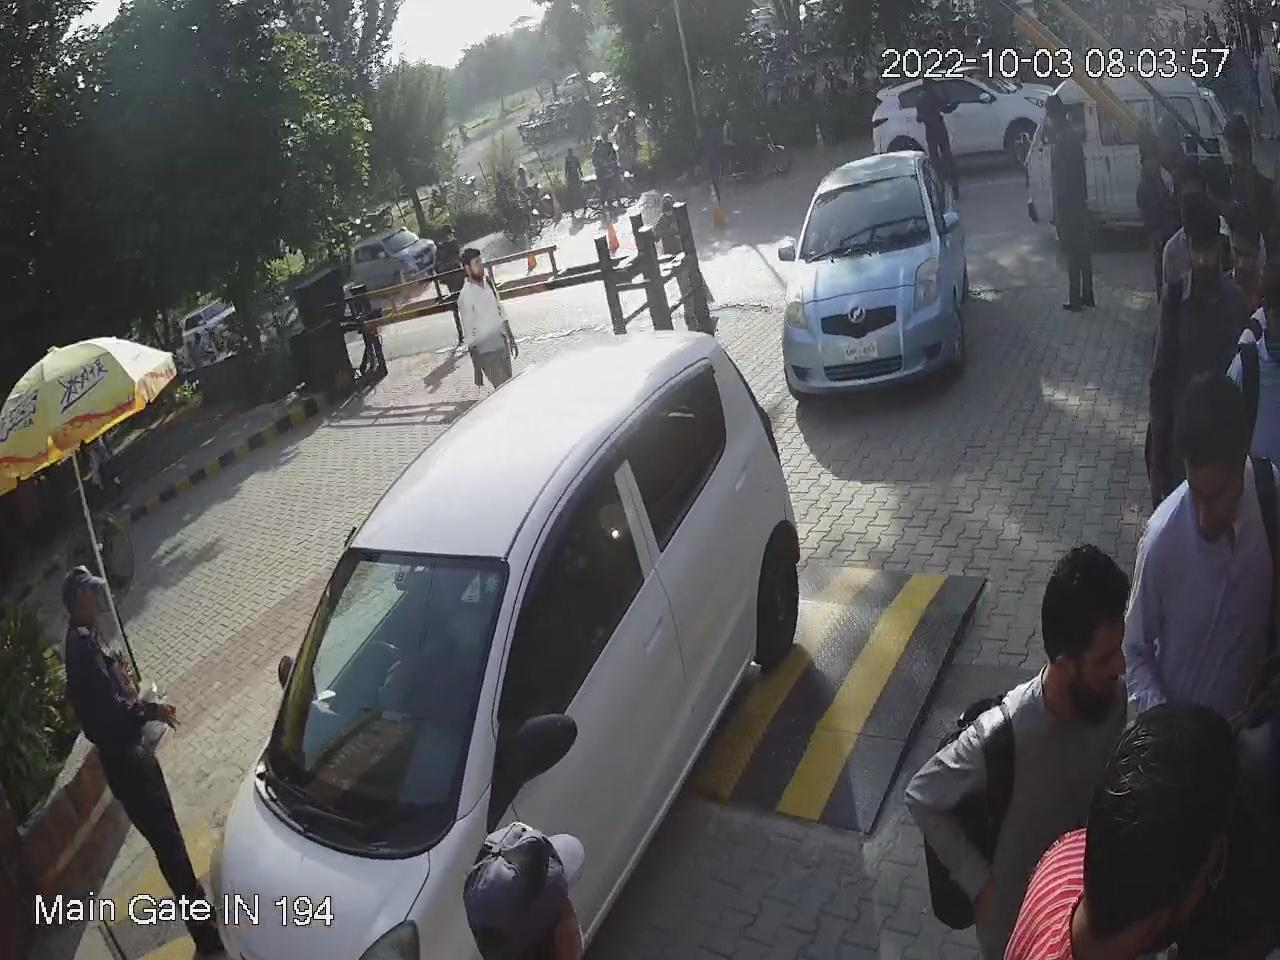windshield: (251, 541, 518, 845), (795, 167, 942, 267)
